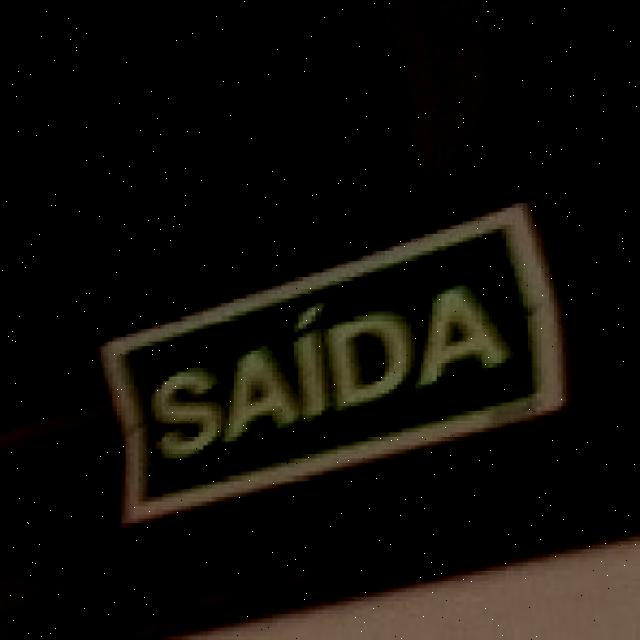emergency_exit: (99, 201, 568, 525)
